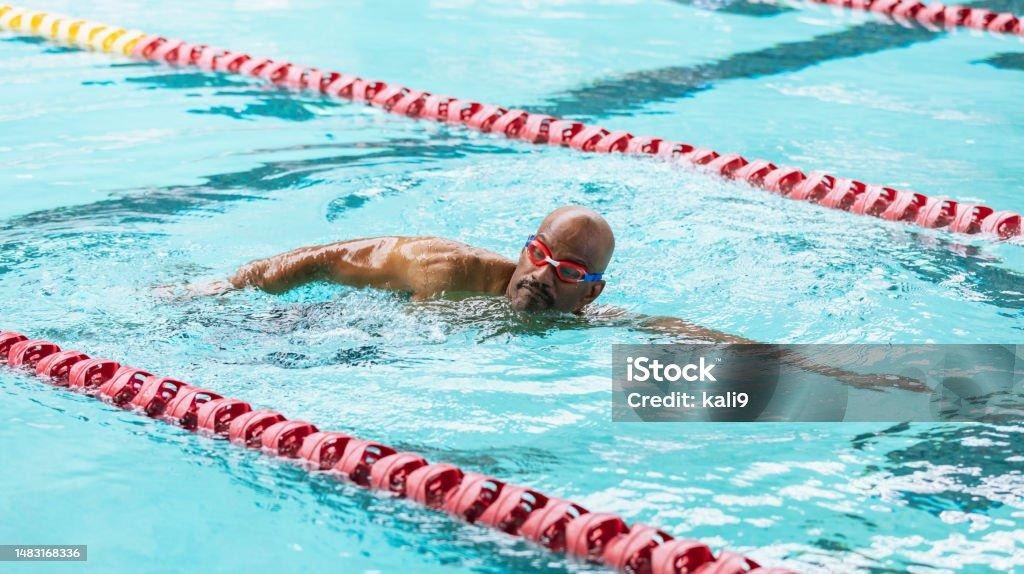Swimming: (180, 147, 662, 352)
